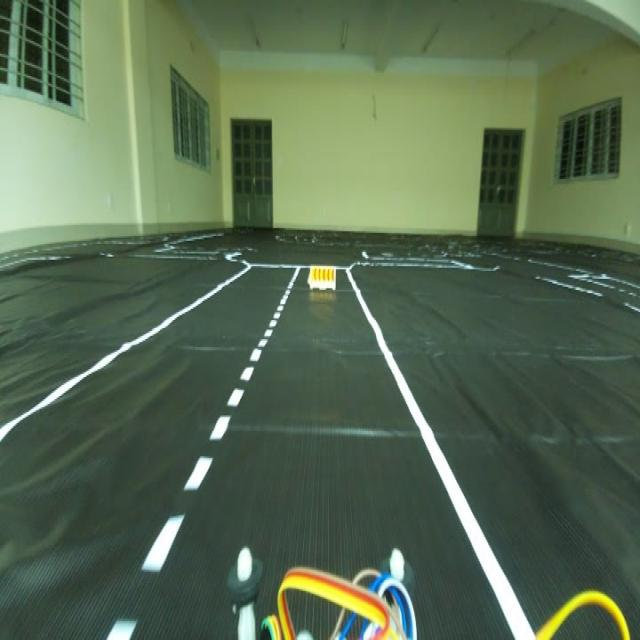roadblock: (302, 253, 342, 301)
